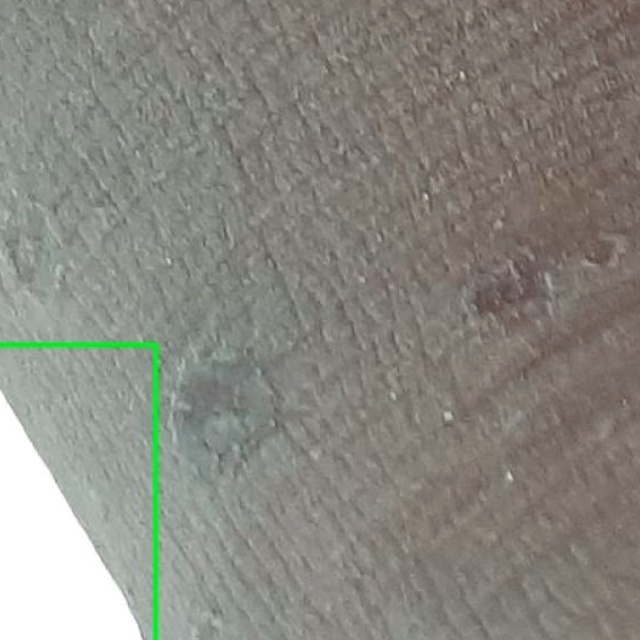Contact Dermatitis: (0, 344, 155, 639)
